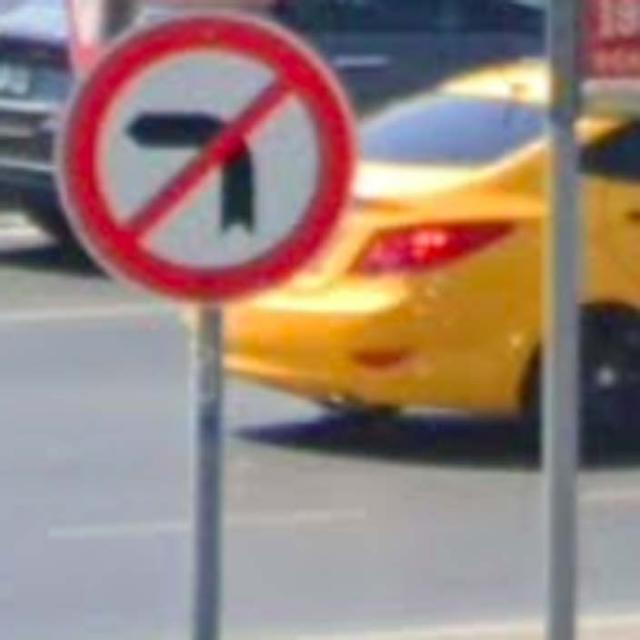soladonulmez: (54, 15, 351, 300)
